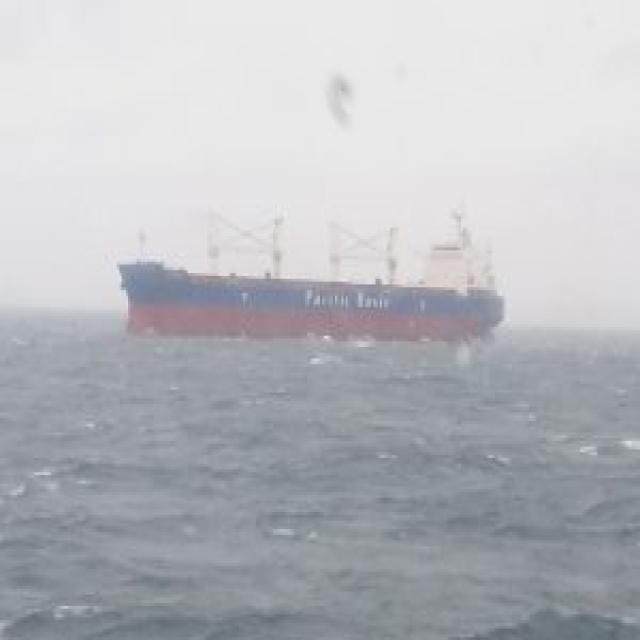cargoship: (107, 190, 503, 347)
